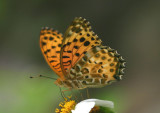Argyreus hyperbius: (28, 16, 128, 100)
butterfly: (26, 14, 126, 98)
